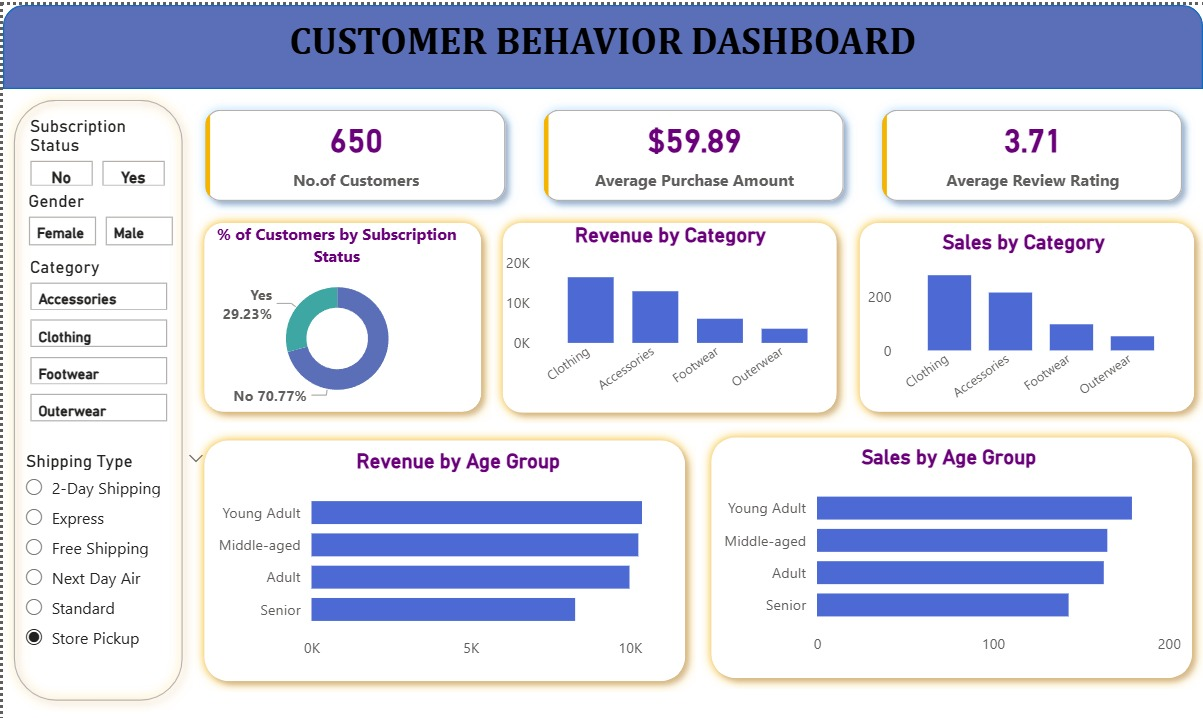

Layout of this report page (visuals, bound fields, positions):
{"tool":"powerbi","page":{"name":"Page 1","canvas":[1000,600],"ordinal":0},"visuals":[{"type":"cardVisual","fields":{"Data":["public customer.No.of Customers","public customer.Average Purchase Amount","public customer.Average Review Rating"]},"box":[151.2,70,848.8,110],"z":0},{"type":"shape","box":[0,0,1000,70],"z":1000},{"type":"textbox","box":[0,5,1000,65],"z":2000},{"type":"shape","box":[158.9,172.2,248.9,175.6],"z":3000},{"type":"donutChart","title":" % of Customers by Subscription Status","fields":{"Category":["public customer.subscription_status"],"Y":["CountNonNull(public customer.customer_id)"]},"box":[158.9,181.1,238.9,156.7],"z":4000},{"type":"shape","box":[704.4,172.2,296.7,175.6],"z":5000},{"type":"clusteredColumnChart","title":"Sales by Category","fields":{"Category":["public customer.category"],"Y":["CountNonNull(public customer.purchase_amount)"]},"box":[715,187.5,271.2,150],"z":6000},{"type":"shape","box":[0,70,158.8,518.8],"z":7000},{"type":"advancedSlicerVisual","fields":{"Values":["public customer.subscription_status"]},"box":[17.8,92.2,123.3,63.3],"z":8000},{"type":"advancedSlicerVisual","title":"Gender","fields":{"Values":["public customer.gender"]},"box":[16.7,155.6,130,50],"z":9000},{"type":"advancedSlicerVisual","title":"Category","fields":{"Values":["public customer.category"]},"box":[17.8,210,124.4,143.3],"z":10000},{"type":"slicer","title":"Shipping Type","fields":{"Values":["public customer.shipping_type"]},"box":[6.2,366.2,173.8,206.2],"z":11000},{"type":"shape","box":[158.8,353.8,418.8,218.8],"z":12000},{"type":"shape","box":[407.5,172.5,296.2,176.2],"z":13000},{"type":"clusteredColumnChart","title":"Revenue by Category","fields":{"Category":["public customer.category"],"Y":["Sum(public customer.purchase_amount)"]},"box":[413.8,181.2,285,150],"z":14000},{"type":"shape","box":[581.2,351.2,418.8,218.8],"z":15000},{"type":"clusteredBarChart","title":"Revenue by Age Group","fields":{"Category":["public customer.age_group"],"Y":["Sum(public customer.purchase_amount)"]},"box":[168.8,370,421.2,183.8],"z":16000},{"type":"clusteredBarChart","title":"Sales by Age Group","fields":{"Category":["public customer.age_group"],"Y":["CountNonNull(public customer.purchase_amount)"]},"box":[590,366.2,410,183.8],"z":17000}]}

Visuals, with their boxes in screenshot pixels (x1, y1, x2, y2), scaled from the page's 1000x600 canvas onto the 1203x718 screenshot:
cardVisual - public customer.No.of Customers x public customer.Average Purchase Amount: [x1=182, y1=84, x2=1202, y2=215]
shape: [x1=0, y1=0, x2=1202, y2=84]
textbox: [x1=0, y1=6, x2=1202, y2=84]
shape: [x1=191, y1=206, x2=491, y2=416]
" % of Customers by Subscription Status" donutChart: [x1=191, y1=217, x2=479, y2=404]
shape: [x1=847, y1=206, x2=1202, y2=416]
"Sales by Category" clusteredColumnChart: [x1=860, y1=224, x2=1186, y2=404]
shape: [x1=0, y1=84, x2=191, y2=705]
advancedSlicerVisual - public customer.subscription_status: [x1=21, y1=110, x2=170, y2=186]
"Gender" advancedSlicerVisual: [x1=20, y1=186, x2=176, y2=246]
"Category" advancedSlicerVisual: [x1=21, y1=251, x2=171, y2=423]
"Shipping Type" slicer: [x1=7, y1=438, x2=217, y2=685]
shape: [x1=191, y1=423, x2=695, y2=685]
shape: [x1=490, y1=206, x2=847, y2=417]
"Revenue by Category" clusteredColumnChart: [x1=498, y1=217, x2=841, y2=396]
shape: [x1=699, y1=420, x2=1202, y2=682]
"Revenue by Age Group" clusteredBarChart: [x1=203, y1=443, x2=710, y2=663]
"Sales by Age Group" clusteredBarChart: [x1=710, y1=438, x2=1202, y2=658]
